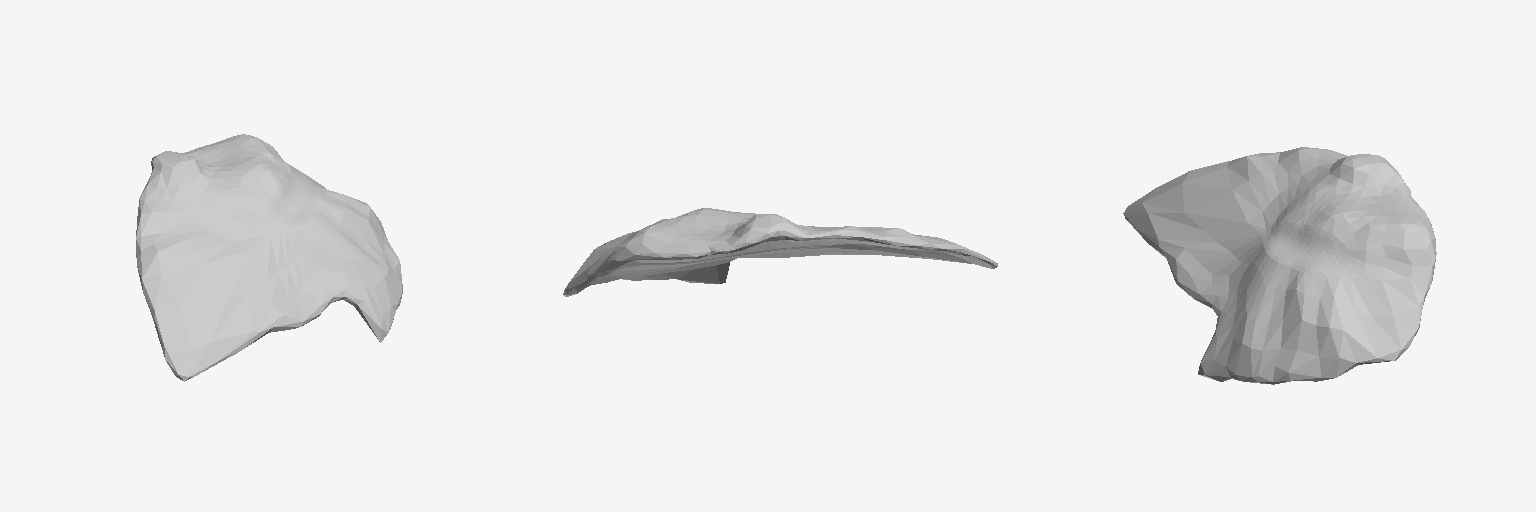
The model's file is randomLeaf2.obj.
The picture shows the model from 3 angles: view 1: azimuth 30°, elevation 25°; view 2: azimuth 150°, elevation 25°; view 3: azimuth 270°, elevation 25°; orthographic projection.
Visible parts, largest first — view 1: randomLeaf; view 2: randomLeaf; view 3: randomLeaf.
Part boxes in pixels (x1,y1,x2,y2): randomLeaf: (136,134,402,381); randomLeaf: (563,208,997,296); randomLeaf: (1123,147,1436,384).
Bounding box in the file's own units: 0.7416 × 0.3499 × 0.6408.